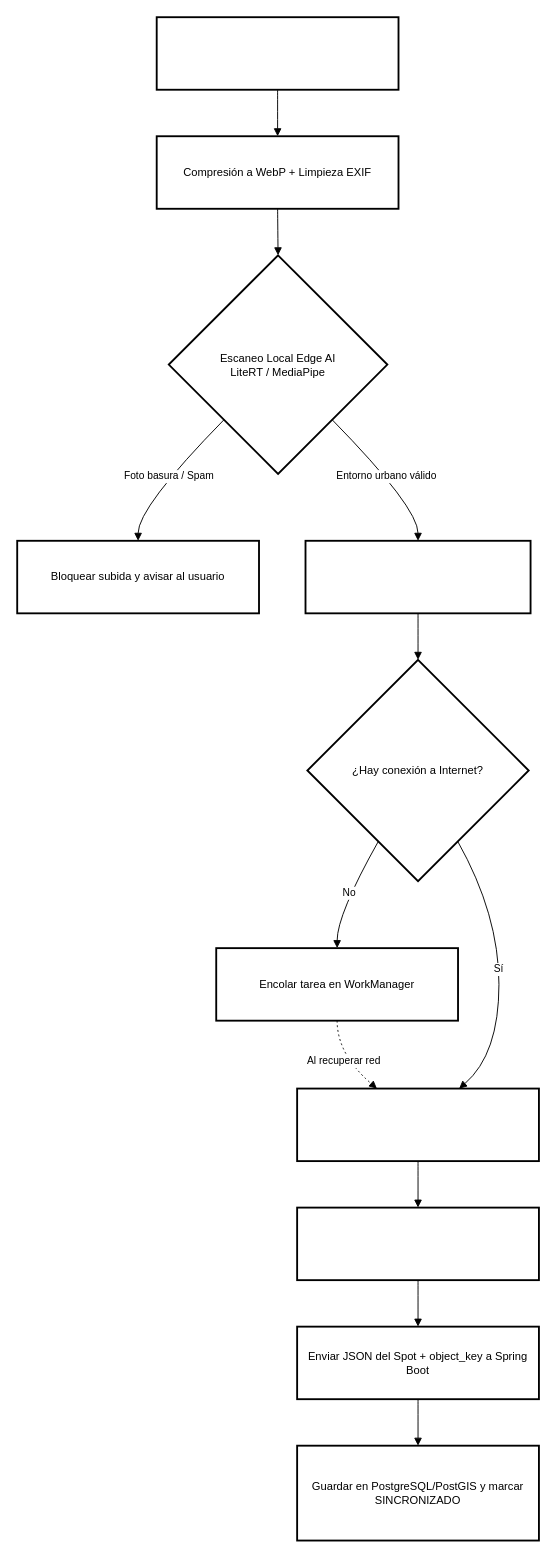
Some shapes in this 555 by 1557 pixel diagram are drawn without their labels. Here are the shapes that lost their labels. From the top down, the centre of each, then its label:
At pixel 277 53: "Skater pulsa 'Publicar Spot' con Foto".
At pixel 417 576: "Guardar en Room Estado: PENDIENTE_SYNC".
At pixel 417 1124: "Pedir URL Prefirmada al Backend".
At pixel 417 1243: "Subir WebP directo a Object Storage".
